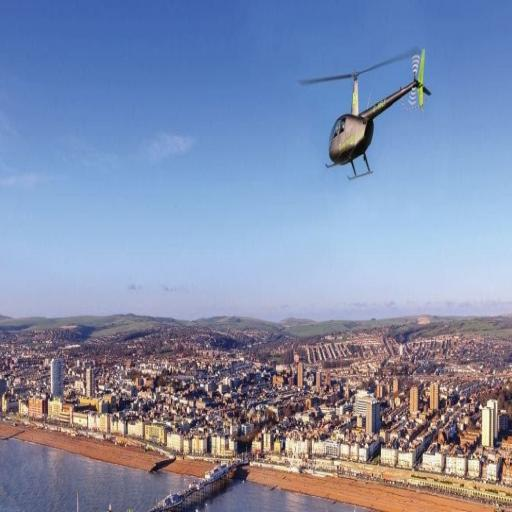helicopter: (299, 43, 436, 189)
